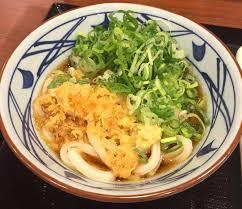bukkake: (2, 7, 241, 197)
